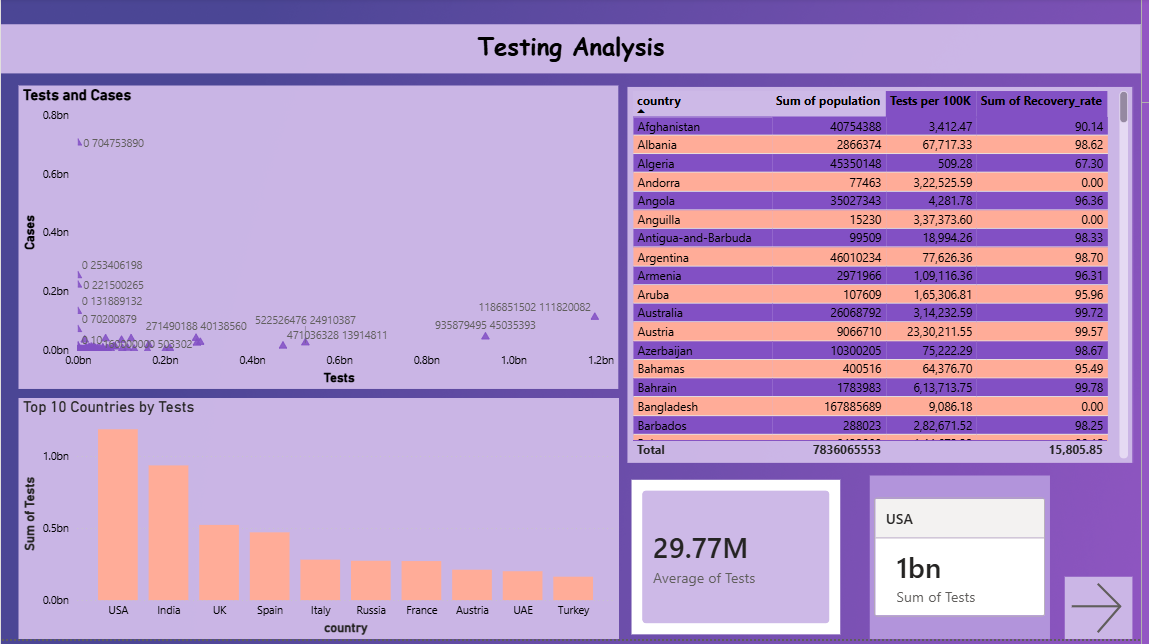

This screenshot's page, from the dashboard's own definition file:
{"tool":"powerbi","page":{"name":"Page 3","canvas":[1280,720],"ordinal":2},"visuals":[{"type":"textbox","box":[0,28.8,1280.3,54.9],"z":0},{"type":"scatterChart","fields":{"Y":["covid_19.Cases"],"X":["covid_19.Tests"]},"box":[19.7,98.3,673.8,341.1],"z":1000},{"type":"columnChart","title":"Top 10 Countries by Tests","fields":{"Category":["covid_19.country"],"Y":["Sum(covid_19.Tests)"]},"box":[20,449,674,271],"z":2000},{"type":"tableEx","fields":{"Values":["covid_19.country","Sum(covid_19.population)","covid_19.Tests per 100K","Sum(covid_19.Recovery_rate)"]},"box":[703.3,99.7,567.1,422.6],"z":3000},{"type":"cardVisual","fields":{"Data":["Avg(covid_19.Tests)"]},"box":[703.3,536.3,244.3,183.9],"z":4000},{"type":"cardVisual","fields":{"Data":["Sum(covid_19.Tests)"],"Rows":["covid_19.country"]},"box":[975.7,536.3,202.2,183.9],"z":5000},{"type":"actionButton","box":[1194.7,650,75.8,70.2],"z":6000}]}

Visuals, with their boxes in screenshot pixels (x1, y1, x2, y2), scaled from the page's 1280x720 canvas onto the 1149x644 screenshot:
textbox: 0:26:1148:75
scatterChart - covid_19.Cases x covid_19.Tests: 18:88:623:393
"Top 10 Countries by Tests" columnChart: 18:402:623:643
tableEx - covid_19.country x Sum(covid_19.population): 631:89:1140:467
cardVisual - Avg(covid_19.Tests): 631:480:851:643
cardVisual - Sum(covid_19.Tests) x covid_19.country: 876:480:1057:643
actionButton: 1072:581:1140:643
